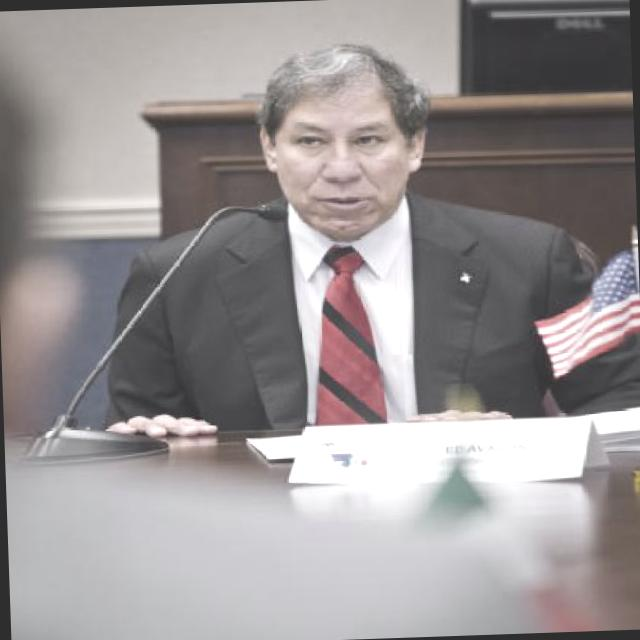Person: (87, 33, 640, 438)
